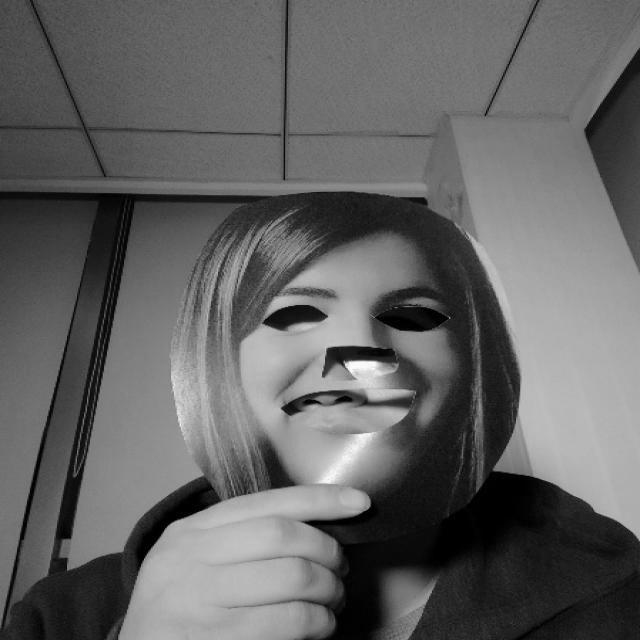real: (164, 186, 526, 540)
